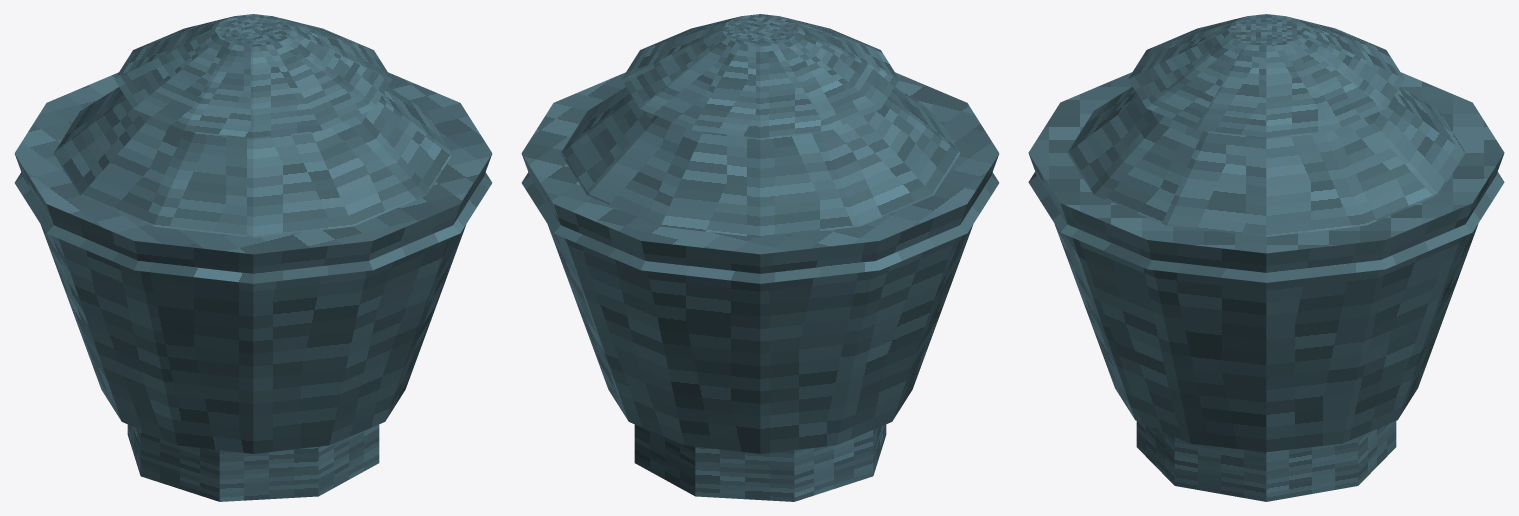
File: urn_49.glb
3 renders of one model, left to right at view 1: azimuth 30°, elevation 25°; view 2: azimuth 150°, elevation 25°; view 3: azimuth 270°, elevation 25°, orthographic.
Visible parts, largest first — view 1: Belly, Neck, Lid, Foot; view 2: Belly, Neck, Lid, Foot; view 3: Belly, Neck, Lid, Foot.
Boxes of the visible parts, x1,y1,x2,y2 form: Belly: [14, 72, 492, 453]; Neck: [14, 87, 492, 283]; Lid: [114, 14, 392, 138]; Foot: [127, 424, 379, 501]; Belly: [521, 72, 999, 453]; Neck: [521, 87, 999, 283]; Lid: [621, 14, 899, 138]; Foot: [634, 424, 886, 501]; Belly: [1028, 72, 1504, 452]; Neck: [1028, 87, 1504, 282]; Lid: [1128, 14, 1404, 137]; Foot: [1136, 421, 1396, 501].
Bounding box in the file's own units: 1.23 × 1.19 × 1.23.
1 material, 1 textured.
